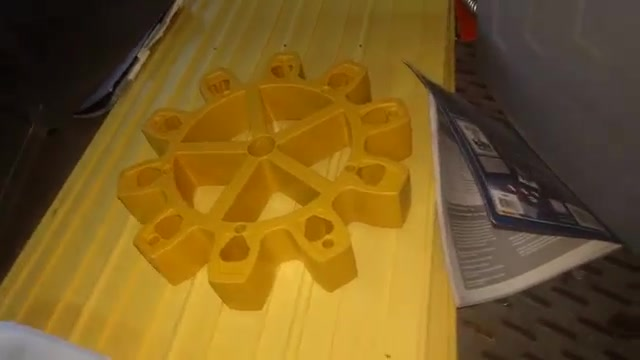gear: (107, 49, 424, 316)
